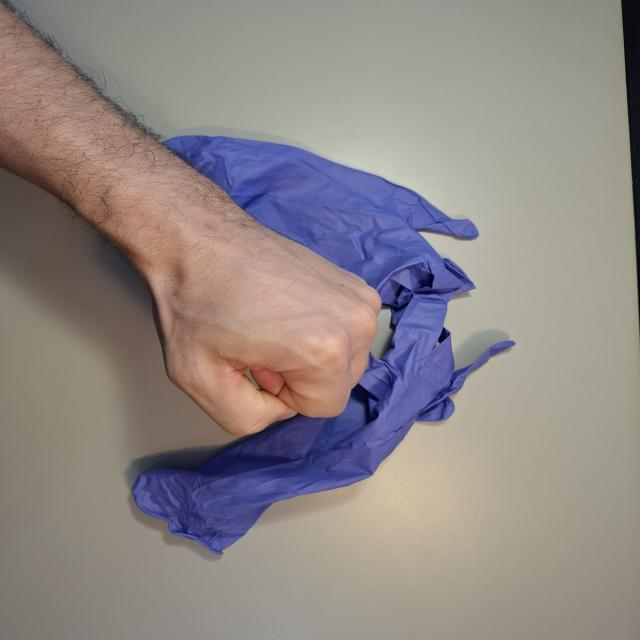glove_off: (133, 217, 386, 440)
